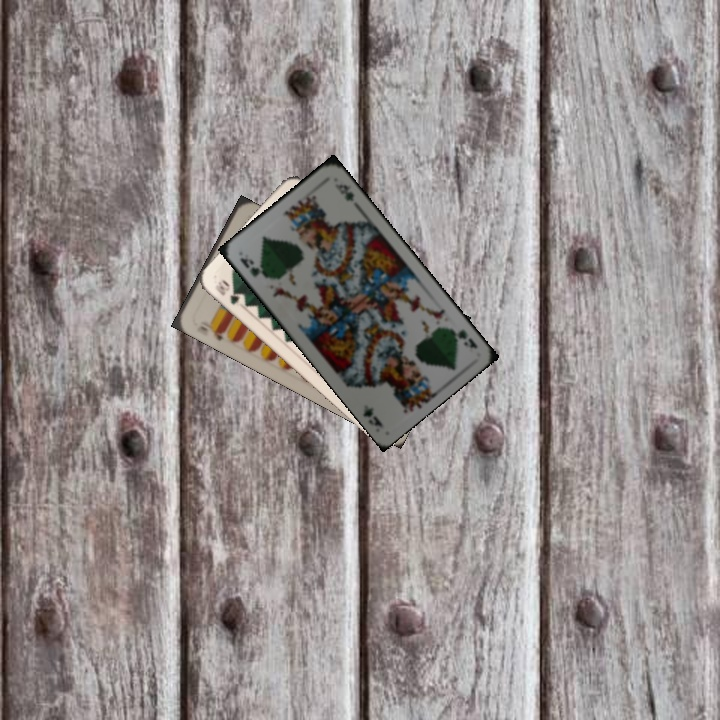E10: (196, 317, 228, 344)
G10: (211, 276, 243, 307)
GK: (445, 324, 480, 351), (236, 254, 262, 279)
